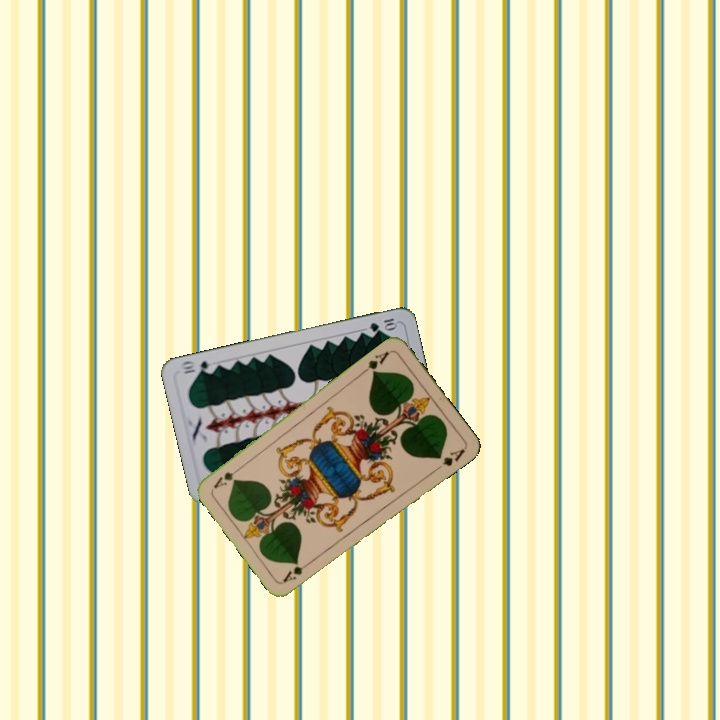G10: (365, 314, 400, 334)
GA: (358, 347, 393, 377), (279, 557, 315, 585)
